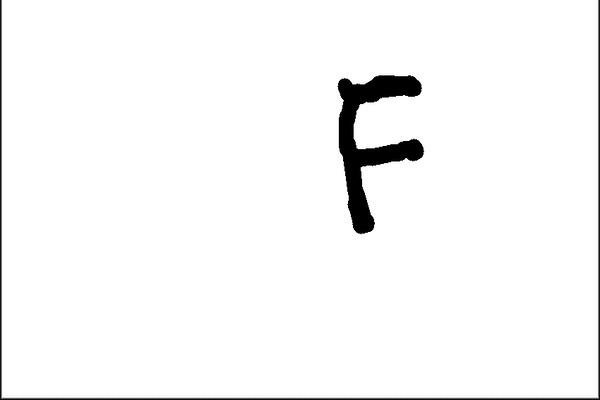F: (329, 69, 429, 237)
